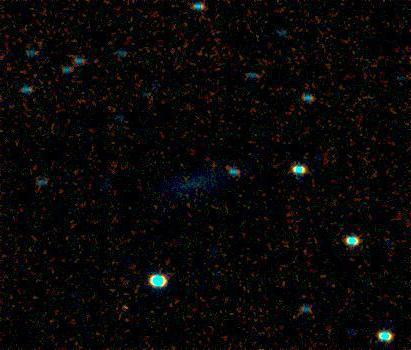star: (111, 293, 141, 323)
